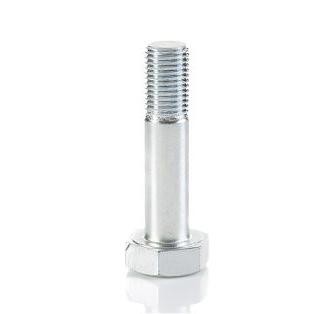screw: (123, 40, 209, 279)
